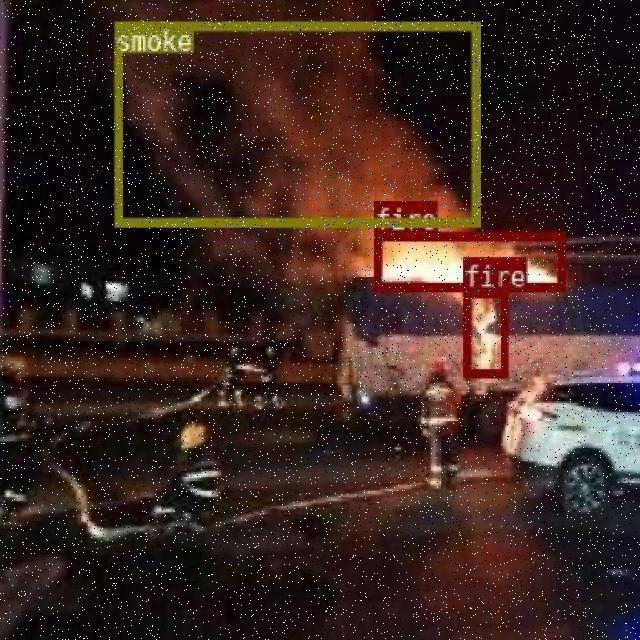Smoke: (113, 23, 478, 222)
